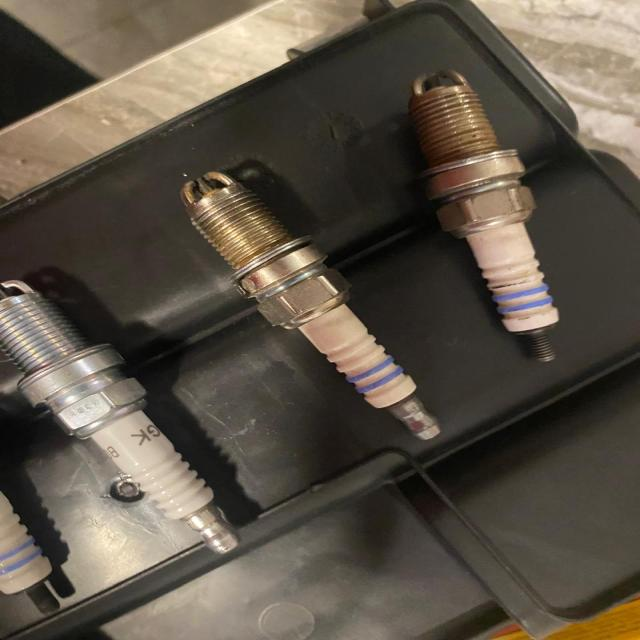spark-plug: (164, 152, 473, 471), (0, 267, 271, 568), (378, 66, 580, 373)
